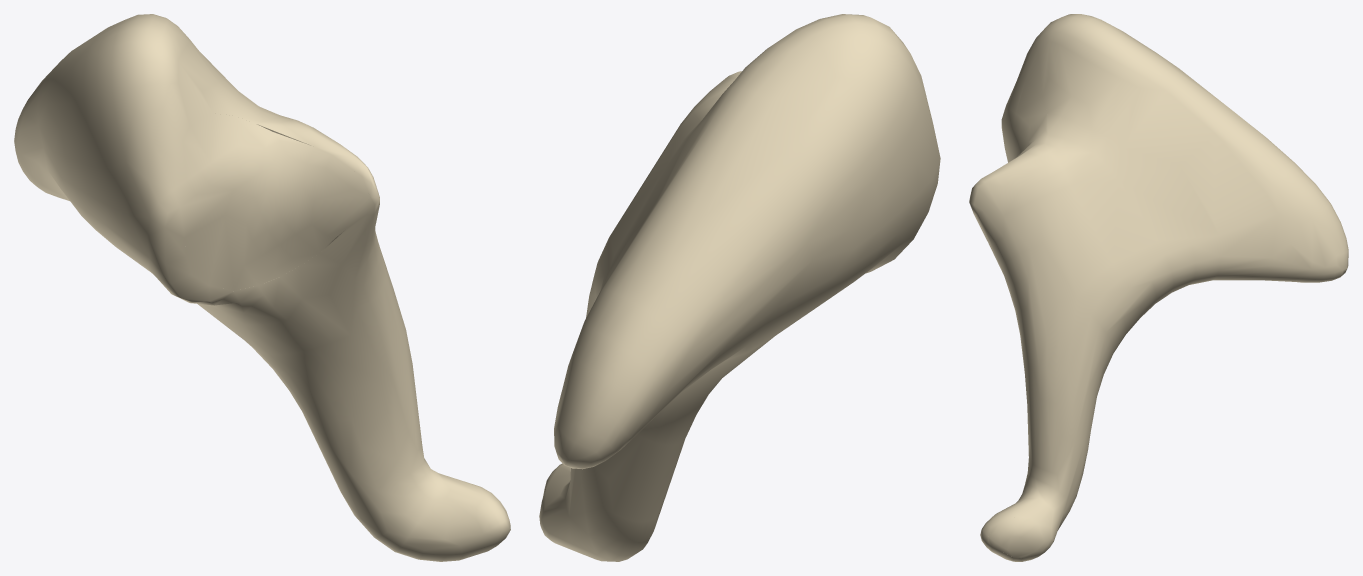
Rendered from esqueleto-incus-r.glb.
The picture shows the model from 3 angles, left to right: view 1: azimuth 30°, elevation 25°; view 2: azimuth 150°, elevation 25°; view 3: azimuth 270°, elevation 25°; orthographic projection. The views are drawn at different scales.
Parts seen in each view (by area): view 1: Incus.r; view 2: Incus.r; view 3: Incus.r.
Boxes of the visible parts, bbox=[...] form: Incus.r: bbox=[14, 14, 510, 561]; Incus.r: bbox=[539, 14, 940, 561]; Incus.r: bbox=[969, 14, 1348, 561].
Bounding box in the file's own units: 0.00422 × 0.00623 × 0.00489.
